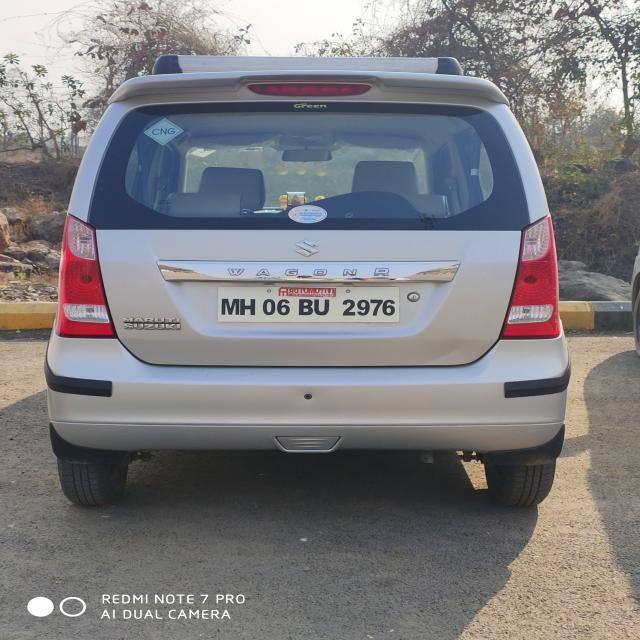Number-Plate: (215, 287, 408, 324)
